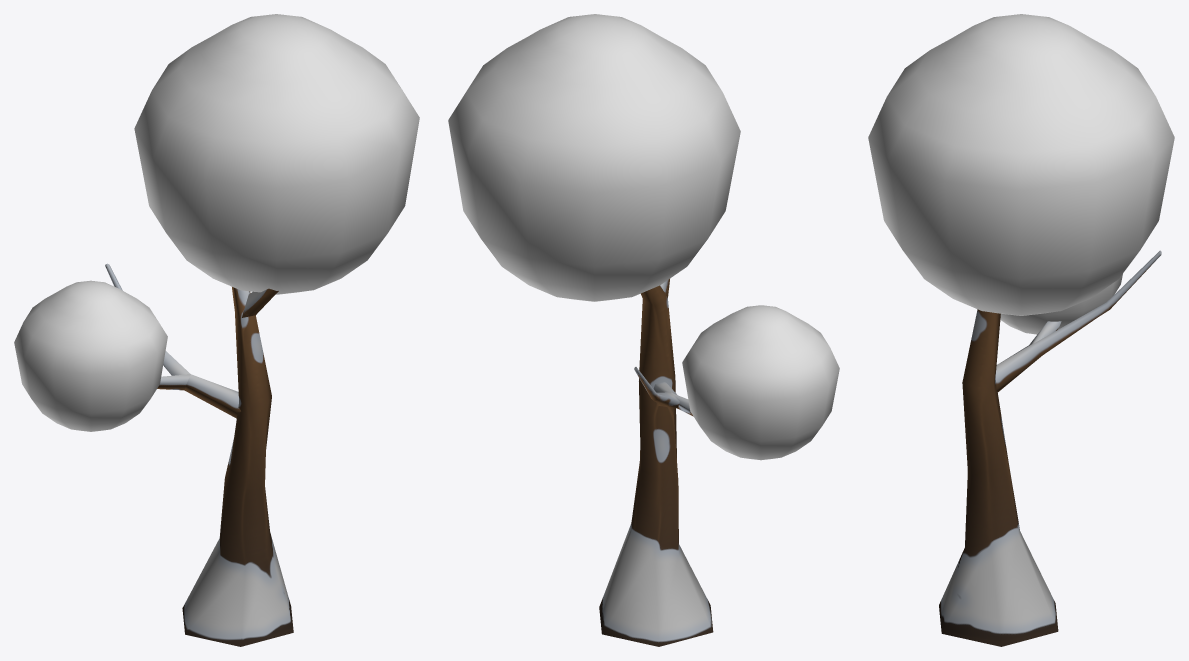
Rendered from Tree_B_3.fbx.
The picture shows the model from 3 angles, left to right: view 1: azimuth 30°, elevation 25°; view 2: azimuth 150°, elevation 25°; view 3: azimuth 270°, elevation 25°; orthographic projection. The views are drawn at different scales.
Parts seen in each view (by area): view 1: Snow, Tree_B_3; view 2: Snow, Tree_B_3; view 3: Snow, Tree_B_3.
Part boxes in pixels (box(x1,y1,x2,y2)): Snow: box(14, 14, 419, 431); Tree_B_3: box(105, 263, 293, 646); Snow: box(448, 14, 839, 460); Tree_B_3: box(599, 279, 713, 646); Snow: box(868, 14, 1174, 334); Tree_B_3: box(939, 250, 1161, 646).
Size of the model in its own units: 307 by 463 by 208.
2 materials, 1 textured.
